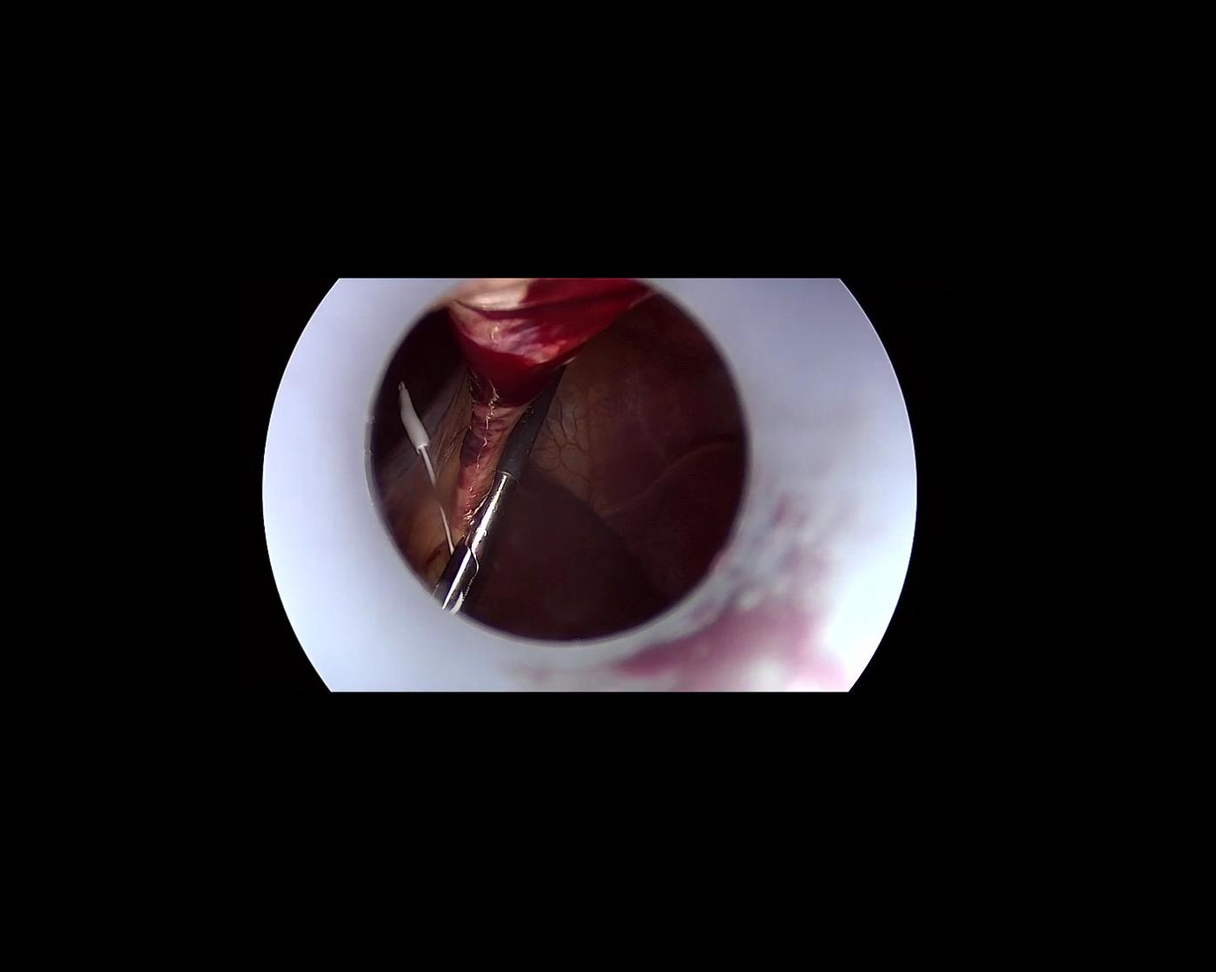Bag: (392, 378, 464, 552)
Forceps: (427, 350, 567, 616)
